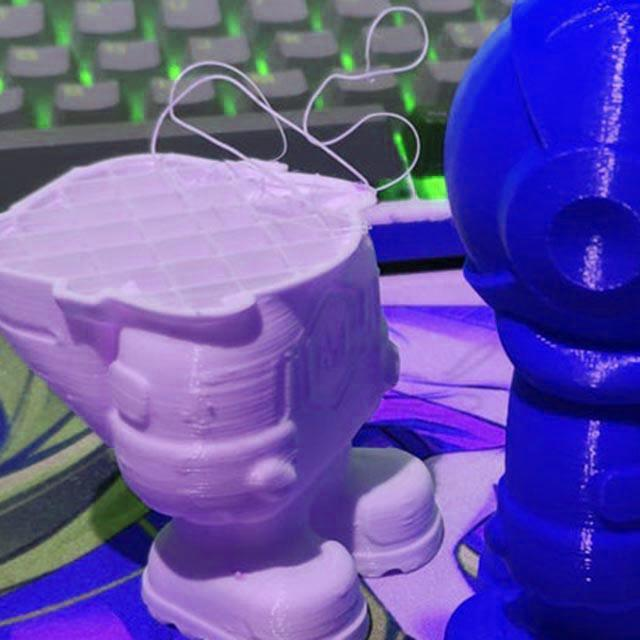Spaghetti: (147, 4, 430, 198)
